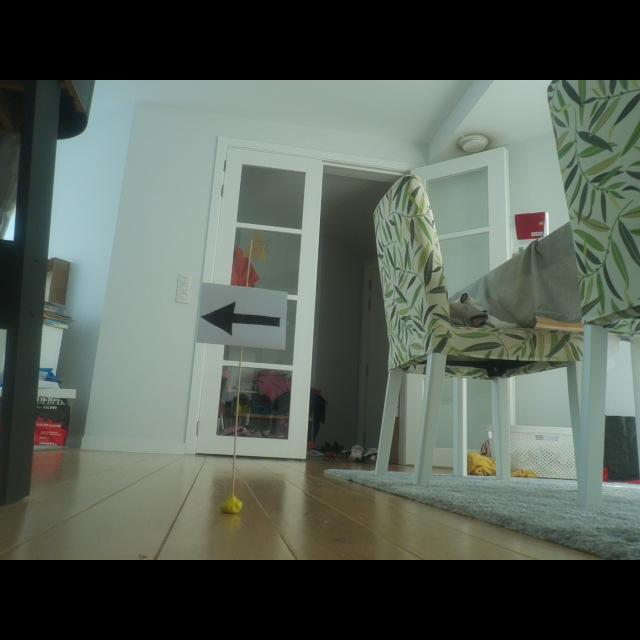balra_nyil: (202, 302, 279, 334)
